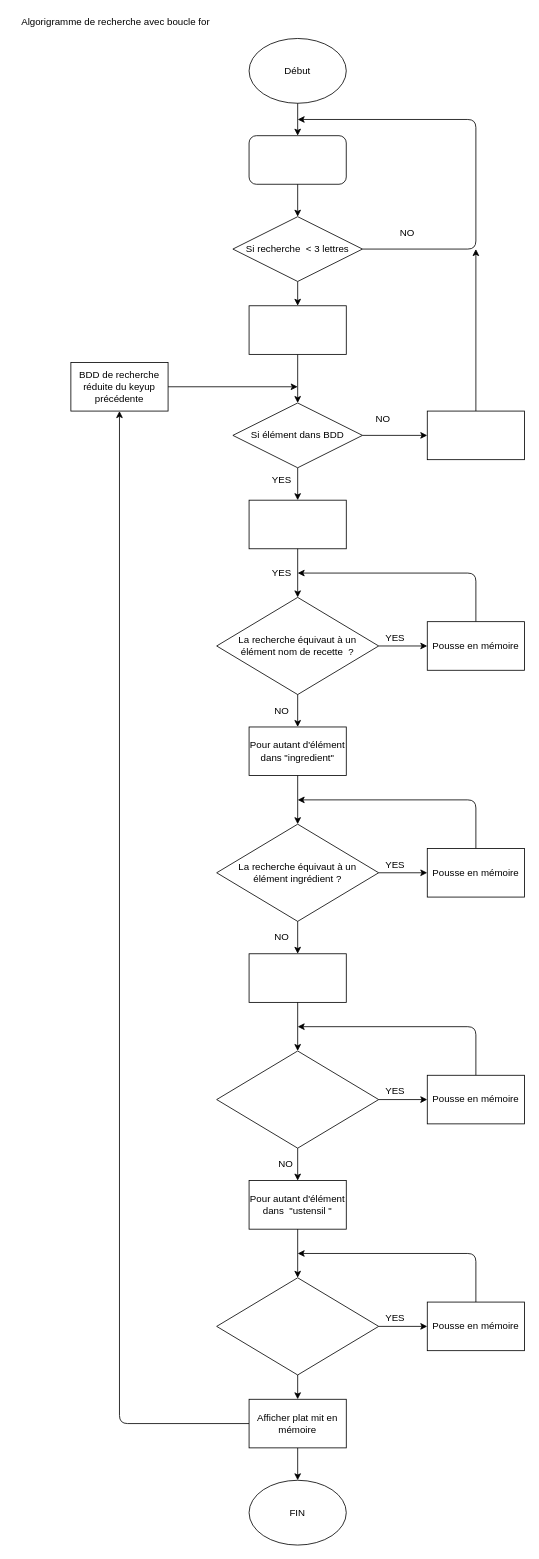
This 539x1559 diagram has some shape labels left out. Each missing label, with the centre of its shape:
La recherche équivaut à un élément appareil ?: (x=297, y=1099)
La recherche équivaut à un élément ustensil ?: (x=297, y=1326)
Message no recette: (x=475, y=435)
Pour autant d'élément dans "appareil": (x=297, y=977)
Pour autant d'élément dans "nom de recette": (x=297, y=524)
Pour tous les élément de la BDD: (x=297, y=329)
Saisir / effacer recherche: (x=297, y=159)
